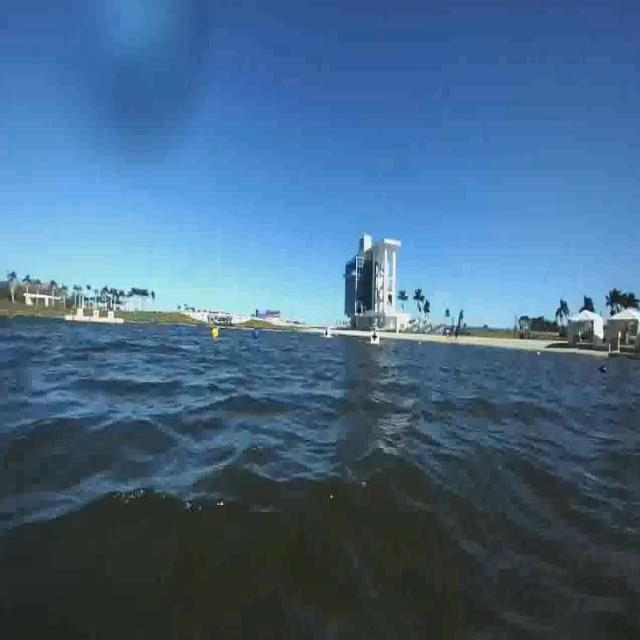yellow-buoy: (211, 328, 220, 342)
